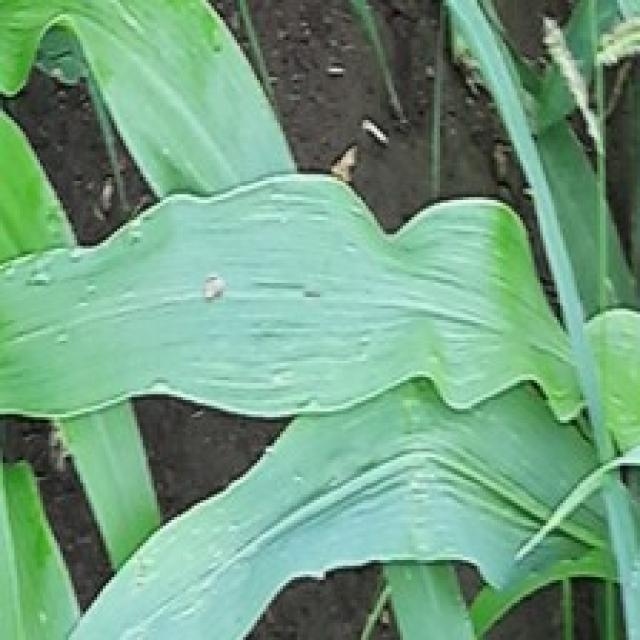Corn: (0, 0, 637, 637), (0, 168, 586, 426), (0, 0, 297, 200)
